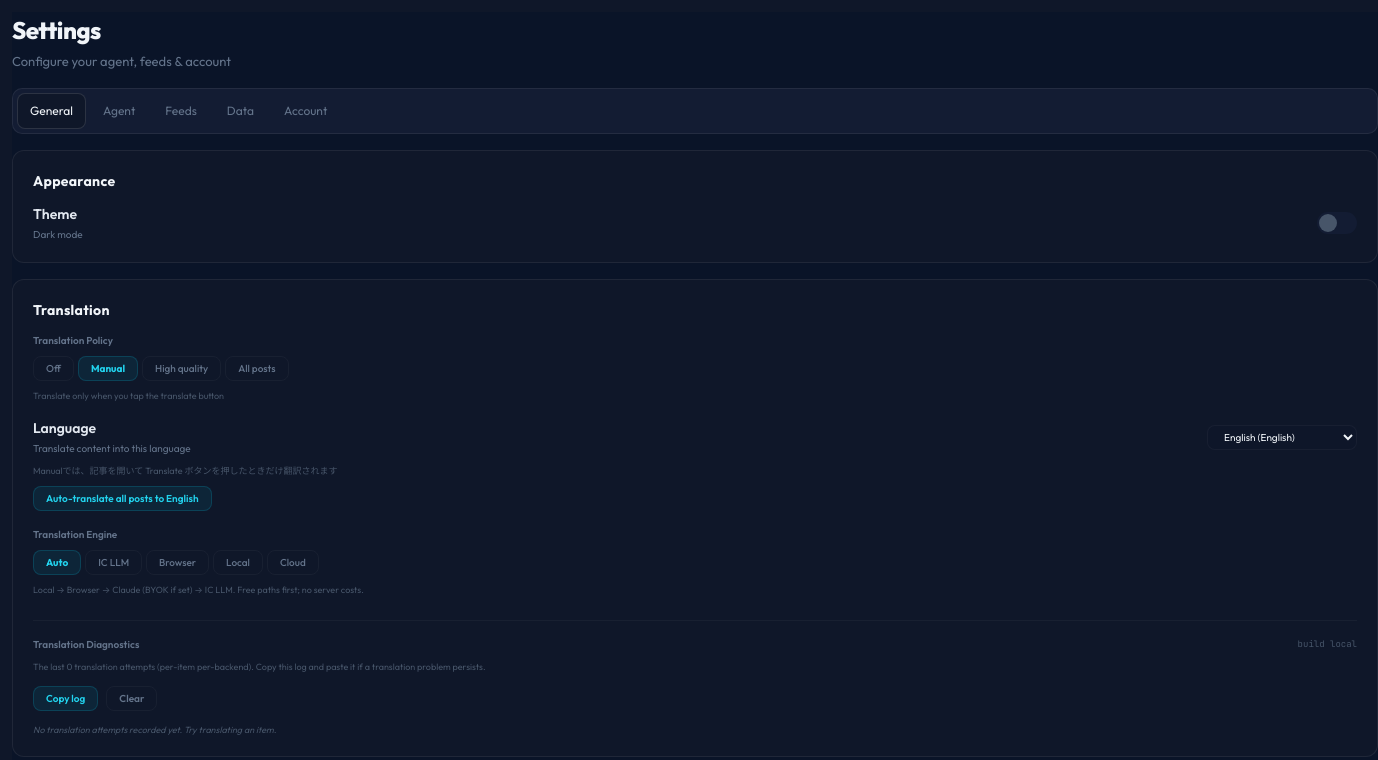
Test: SettingsTab — sub-tab click navigation › switches to Feeds tab on click
Click the button with test id "settings-tab-feeds".
click(181, 110)  # box left=152, top=92, right=210, bottom=128
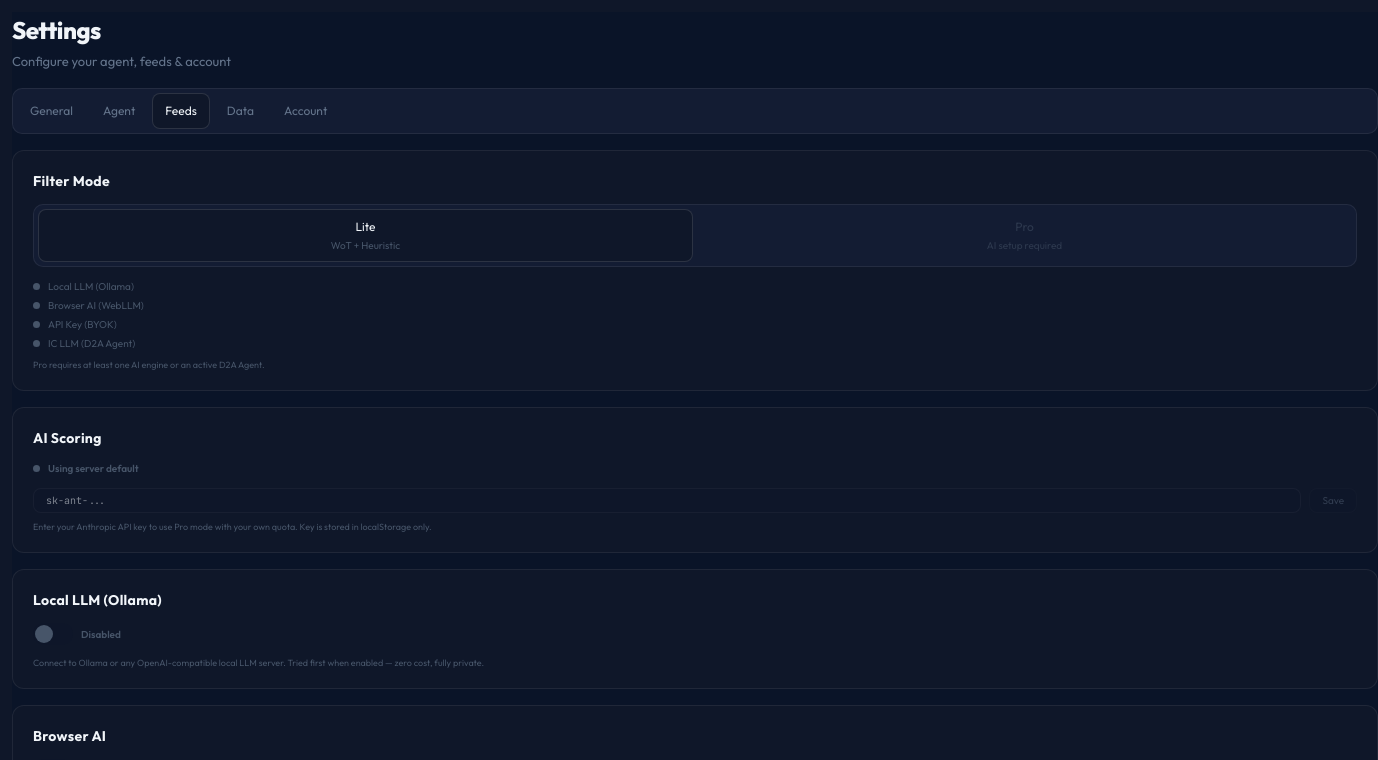
expect the text "AI Scoring" is shown: met, box left=33, top=429, right=102, bottom=447
expect the text "Appearance" is gone: met
